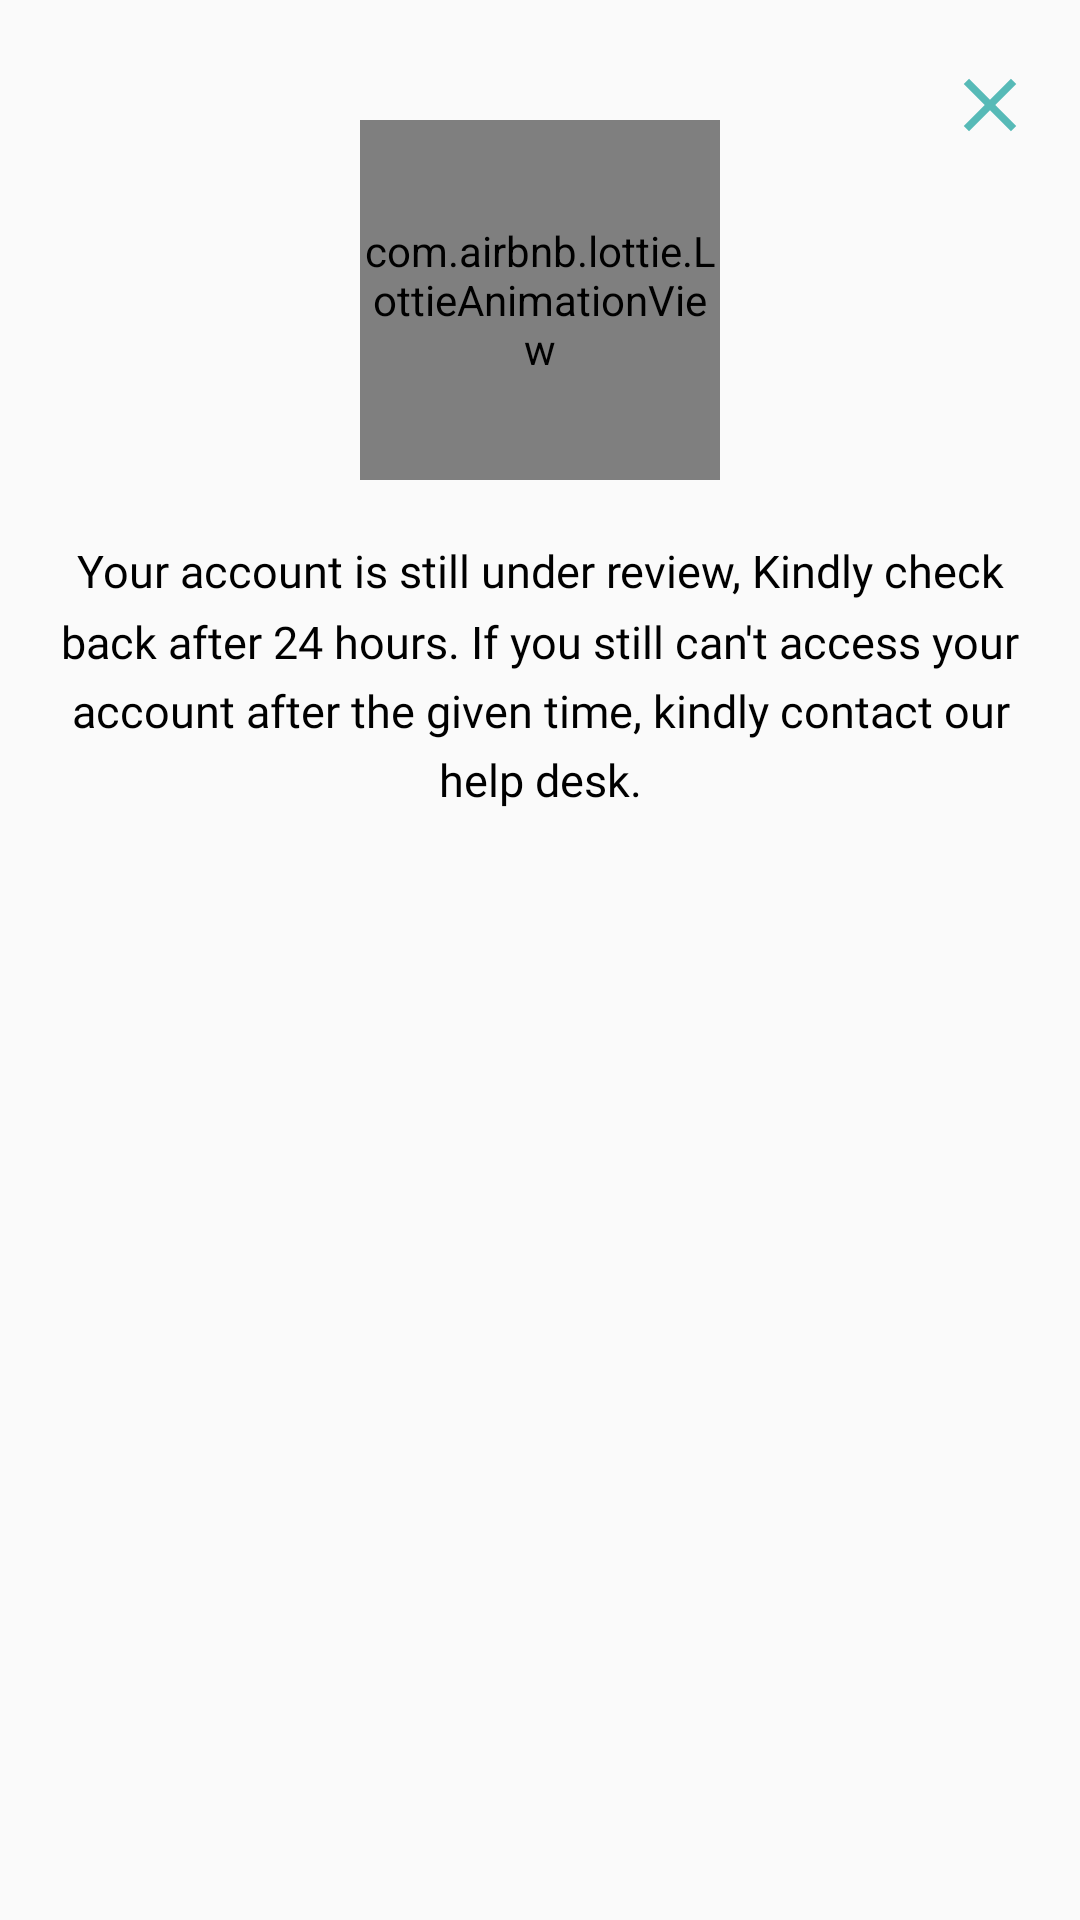

Where to tap for icons on this 1080 x 1920 app screen, as (x,y):
close: (990,105)
